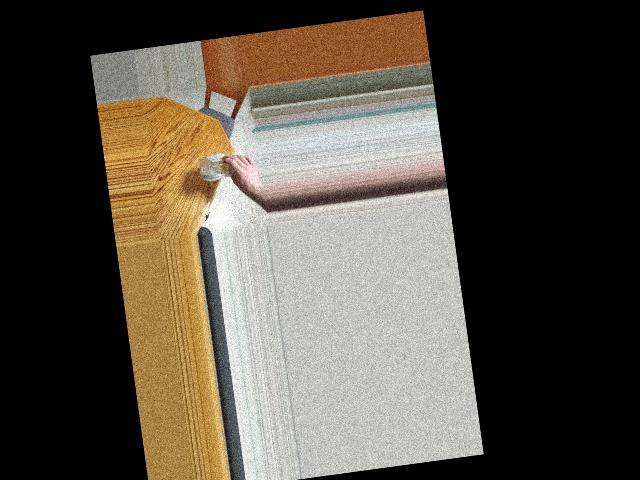cheese: (196, 142, 241, 198)
